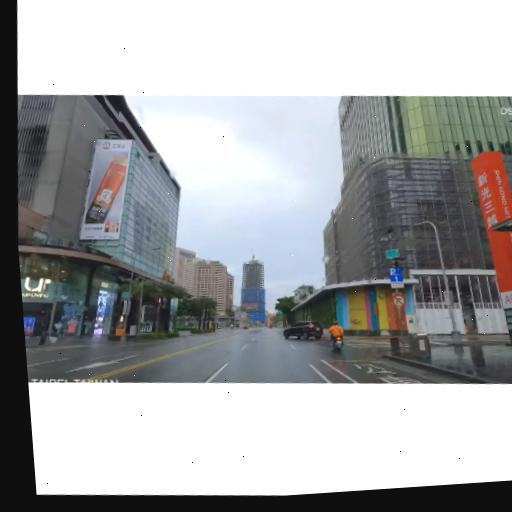Car: (281, 313, 326, 343), (185, 317, 222, 331)
